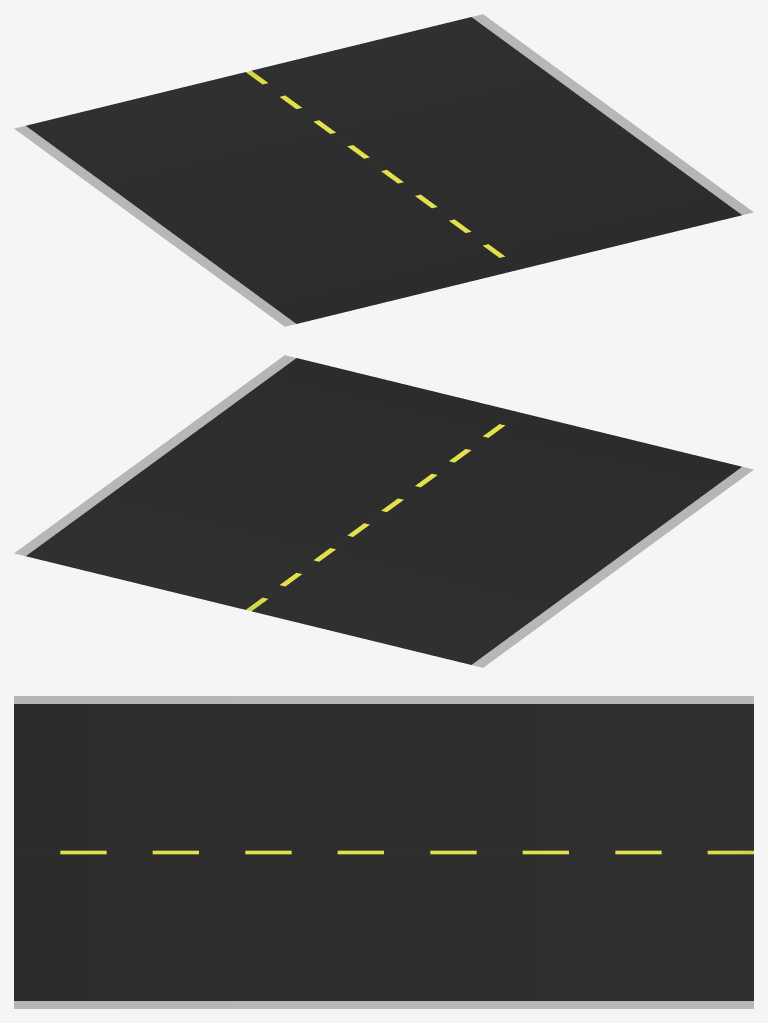
File: road_tile.glb
The picture shows the model from 3 angles, top to bottom: view 1: azimuth 30°, elevation 25°; view 2: azimuth 150°, elevation 25°; view 3: azimuth 270°, elevation 25°; orthographic projection. The views are drawn at different scales.
Visible parts, largest first — view 1: Plane; view 2: Plane; view 3: Plane.
Boxes of the visible parts, x1=… form: Plane: x1=14, y1=14, x2=753, y2=326; Plane: x1=14, y1=355, x2=753, y2=667; Plane: x1=14, y1=696, x2=753, y2=1008.
Size of the model in its own units: 4 by 0 by 4.
1 material, 1 textured.
